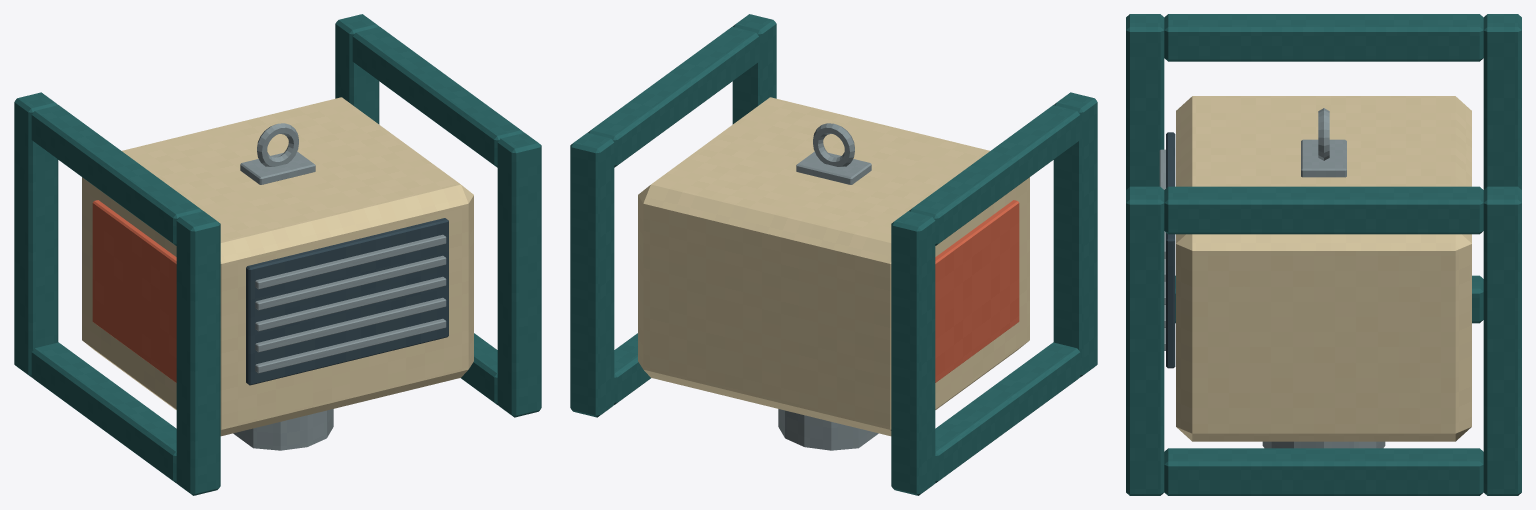
File: generator-lod-1.glb
3 views of the same model, side by side, from view 1: azimuth 30°, elevation 25°; view 2: azimuth 150°, elevation 25°; view 3: azimuth 270°, elevation 25° (orthographic). The views are drawn at different scales.
Parts seen in each view (by area): view 1: generator_lod_1; view 2: generator_lod_1; view 3: generator_lod_1.
Boxes of the visible parts, box(x1,y1,x2,y2) form: generator_lod_1: box(14, 14, 541, 495); generator_lod_1: box(570, 14, 1097, 495); generator_lod_1: box(1126, 14, 1521, 495).
Size of the model in its own units: 1.75 by 1.46 by 1.55.
Materials: 1 (1 with a texture image).
